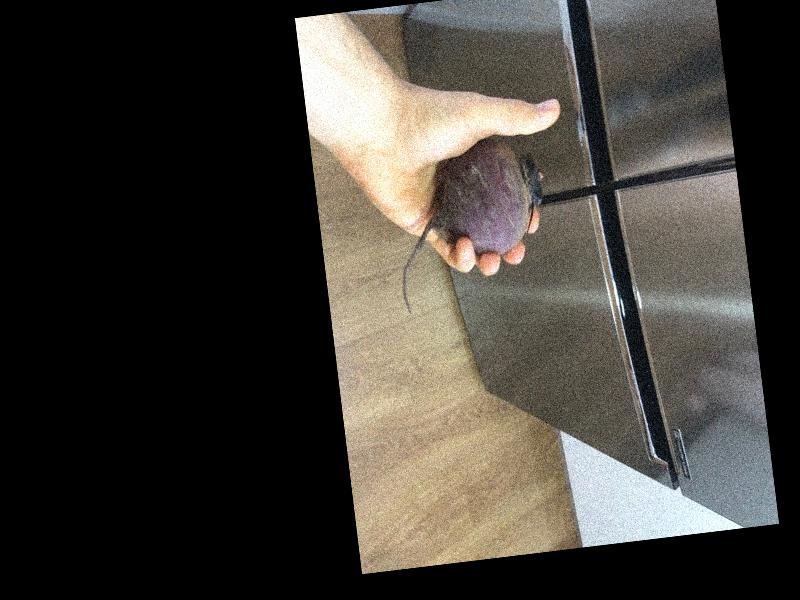Beet: (387, 132, 556, 315)
